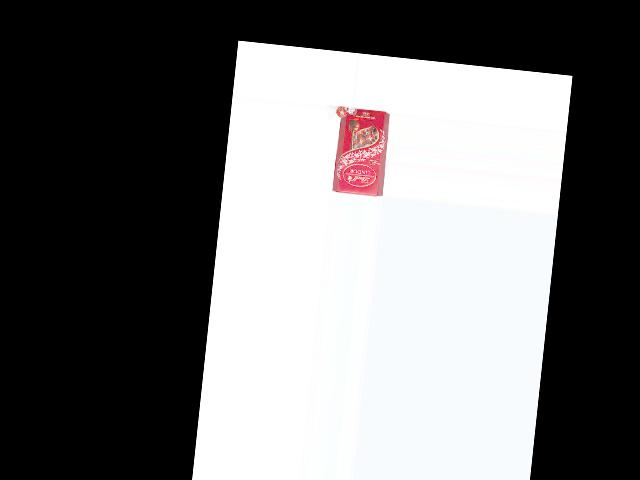chocolate: (327, 106, 390, 196)
